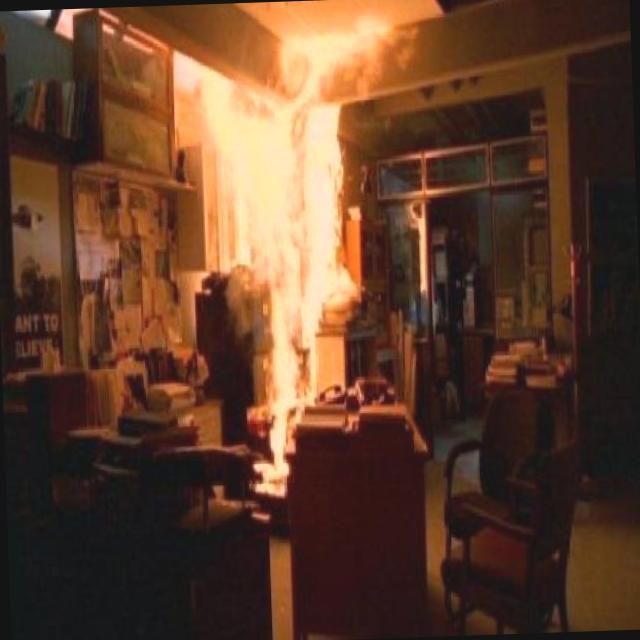fire: (168, 8, 400, 509)
